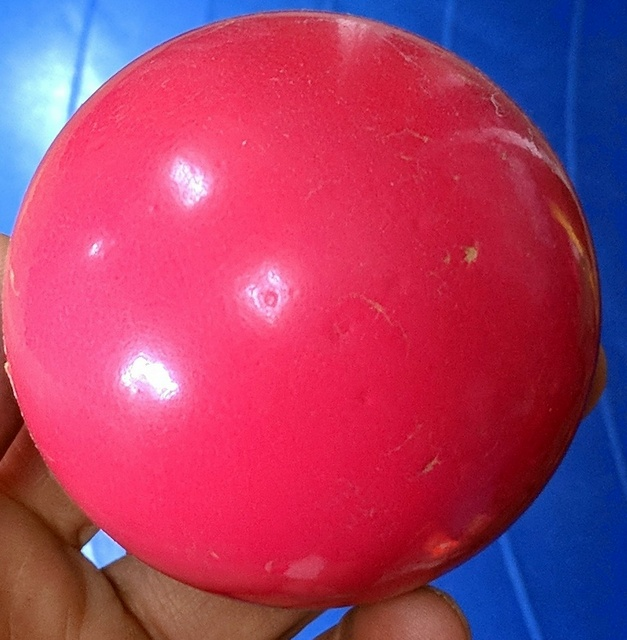ball: (10, 14, 601, 601)
